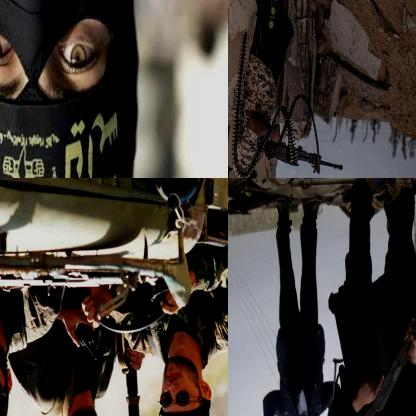rifle: (343, 278, 415, 415), (256, 120, 348, 176), (120, 353, 150, 415), (325, 358, 348, 415)
